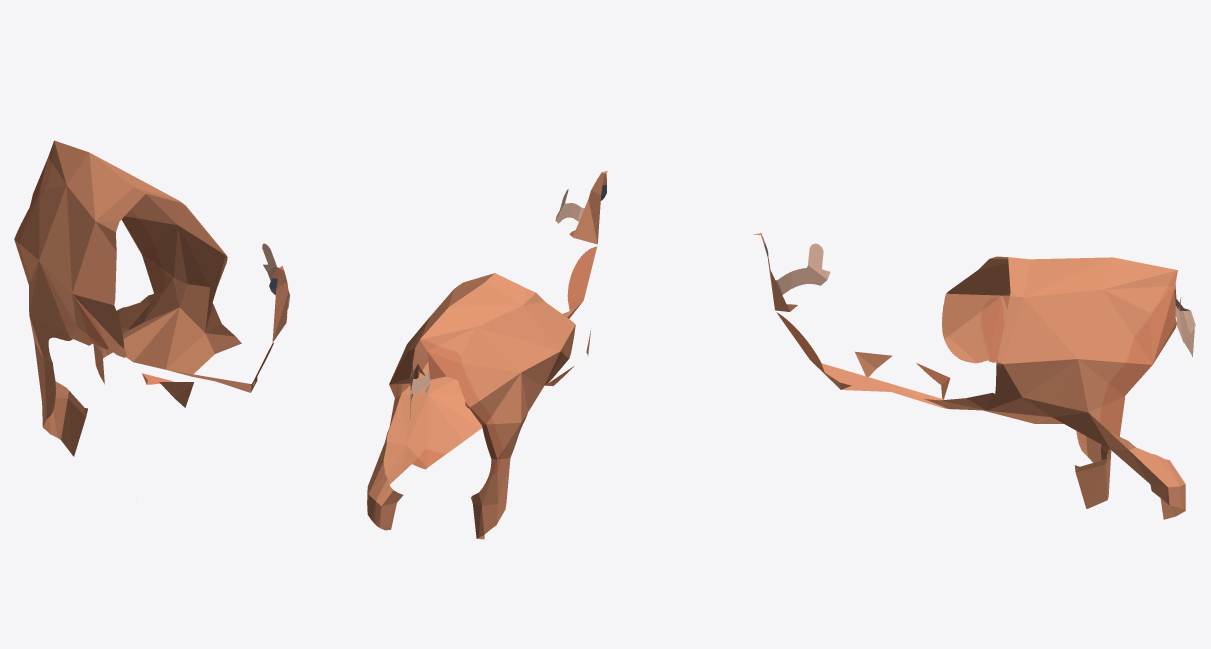
The model's file is deer_lv2.fbx.
3 views of the same model, side by side, from view 1: azimuth 30°, elevation 25°; view 2: azimuth 150°, elevation 25°; view 3: azimuth 270°, elevation 25° (orthographic). The views are drawn at different scales.
Visible parts, largest first — view 1: pCube2; view 2: pCube2; view 3: pCube2.
Part boxes in pixels (left/top/right/bottom): pCube2: left=14, top=140, right=289, bottom=501; pCube2: left=367, top=171, right=607, bottom=611; pCube2: left=753, top=233, right=1195, bottom=519.
Size of the model in its own units: 7.97 by 31.43 by 25.18.
